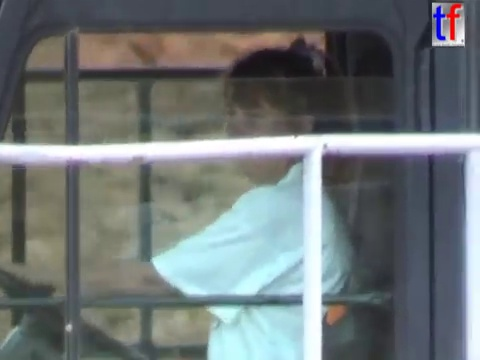truck: (1, 1, 480, 360)
worker: (1, 31, 363, 358)
